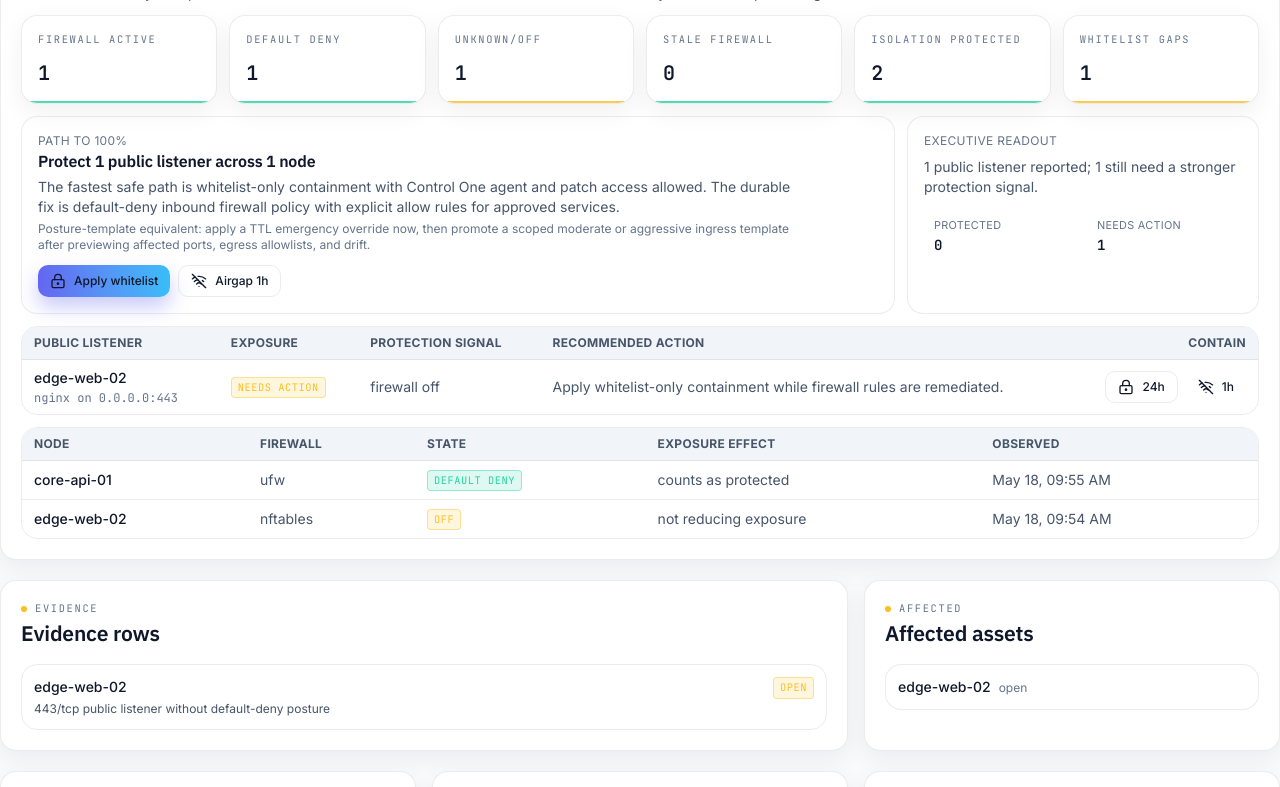
Scenario: ControlRoomDrilldown › uses an in-app confirmation and keeps failed exposure containment visible
(page scrolled)
Click the button named "Apply 24 hour whitelist to edge-web-02": (1142, 387) [1106,371,1178,403]
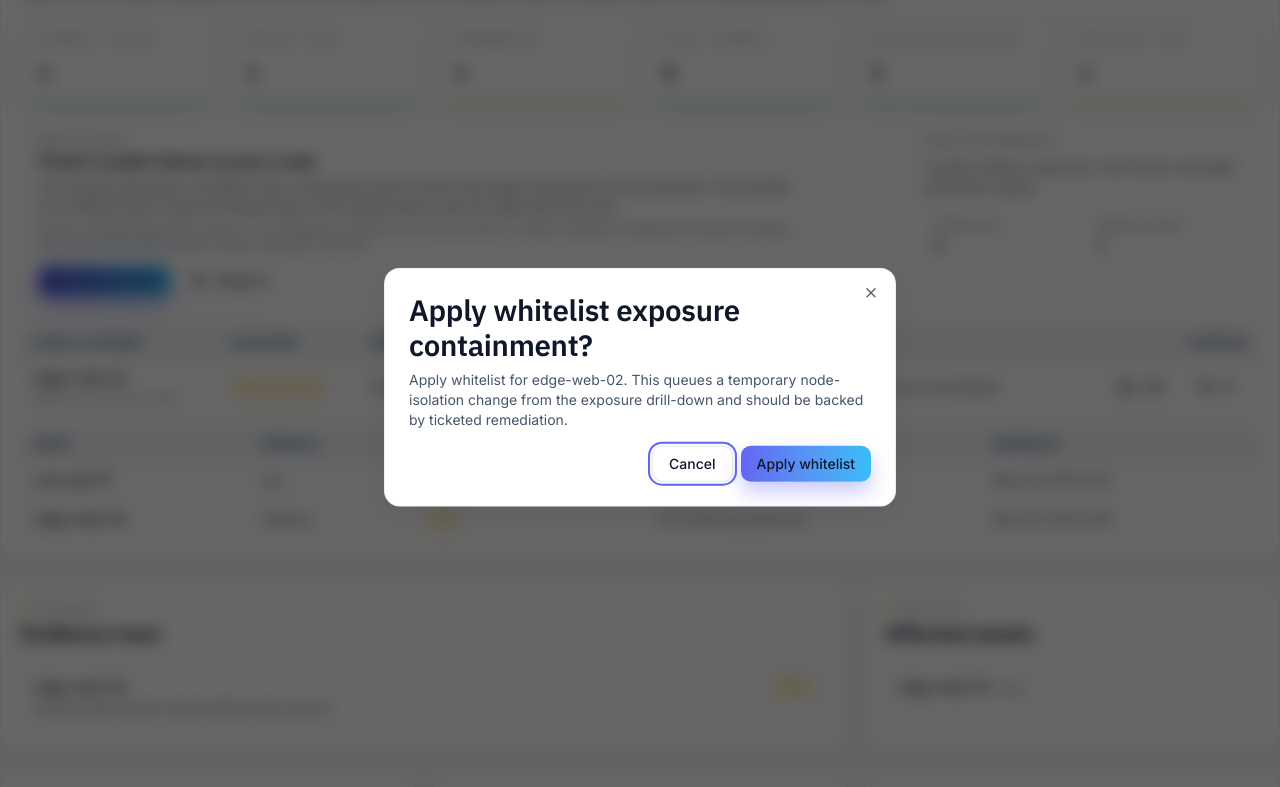
Now the dialog "Apply whitelist exposure containment" shows "Apply whitelist for edge-web-02", box [409,370,863,427]
Click the button "Apply whitelist": (806, 463) [741,445,871,481]
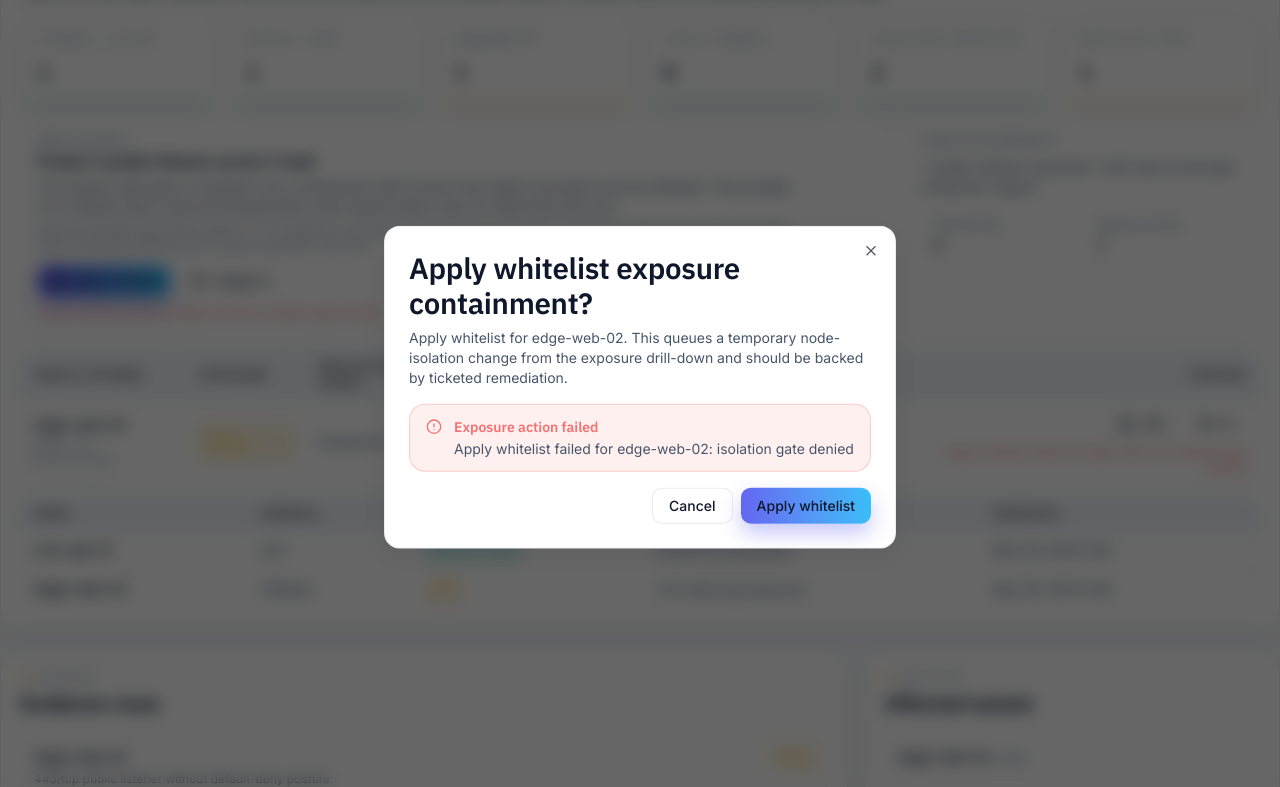
Now the dialog "Apply whitelist exposure containment" is shown, box [384,226,896,548]
Now the text "Exposure action failed" is shown, box [454,417,598,435]
